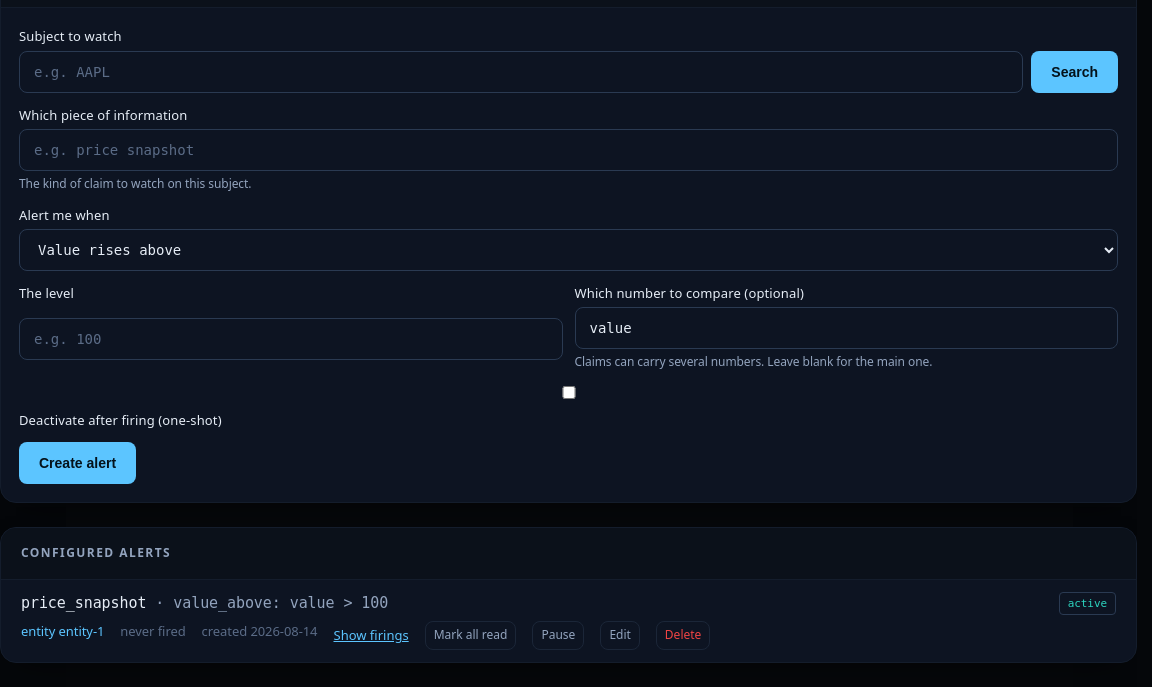
Test: rendered alerts › pauses, edits, and deletes an alert with explicit feedback
(page scrolled)
Click the button "Pause" at (558, 635), box 532,621 -> 584,650
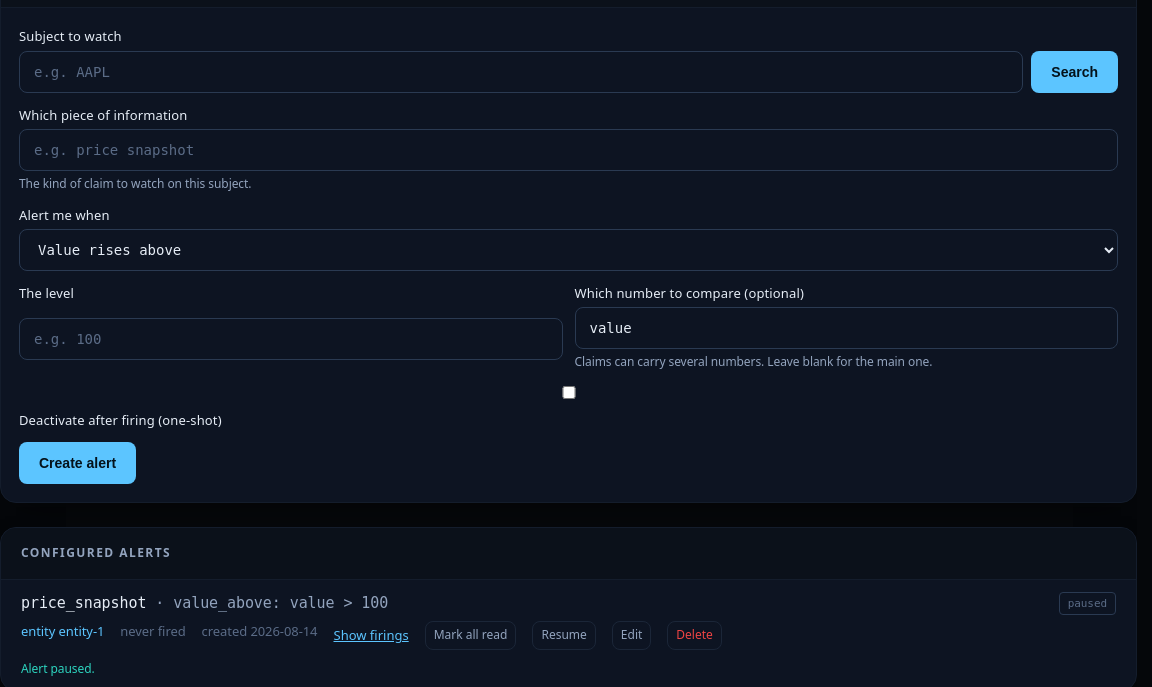
Expected: the text "Alert paused." is shown, 21,660 -> 95,677
Expected: the text "paused" is shown, 1059,592 -> 1116,615
Click the button "Edit" at (632, 635), box 612,621 -> 651,650
(page scrolled)
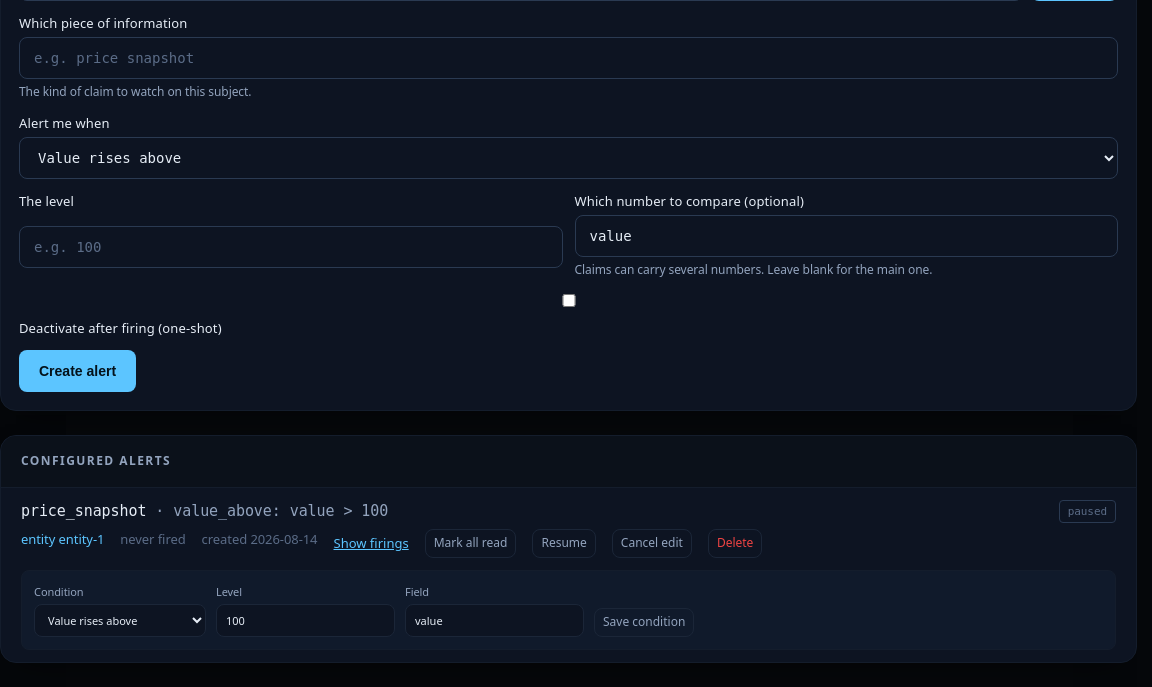
Replace the text in the number field labelled "Level" with "90" at (306, 620), box 216,604 -> 395,637
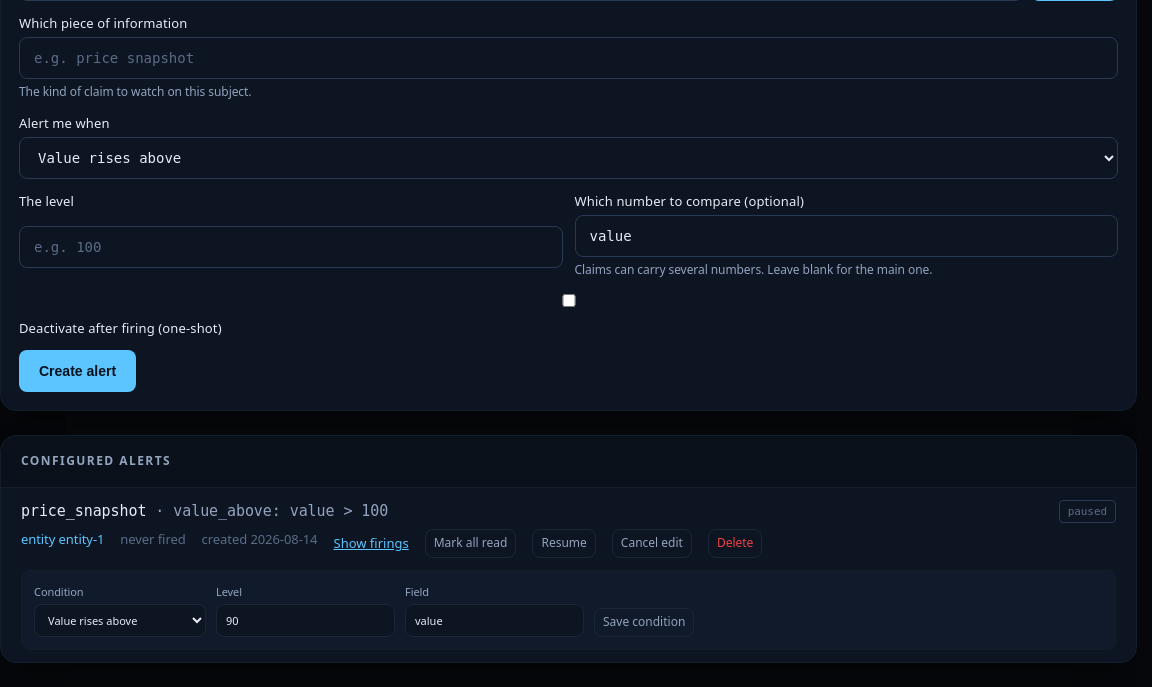
Click the button "Save condition" at (644, 622), box 594,608 -> 694,637
(page scrolled)
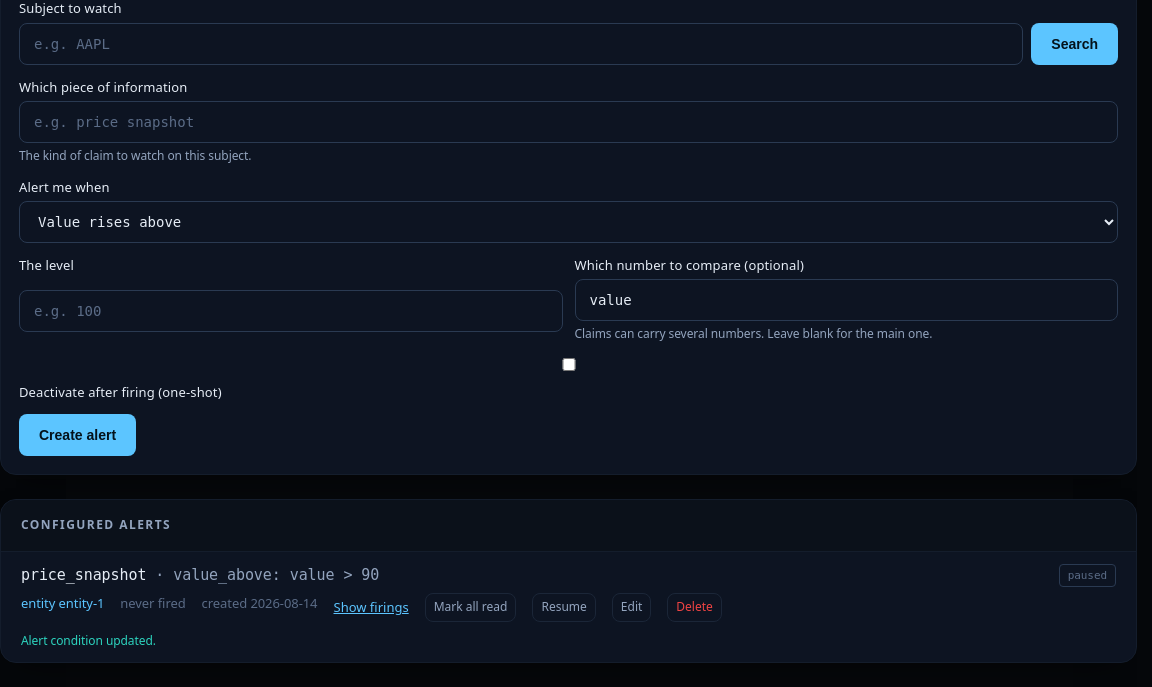
Expected: the text "value > 90" is shown, 173,566 -> 379,584
Expected: the text "Alert condition updated." is shown, 21,632 -> 156,649
Click the button "Delete" at (695, 607), box 667,593 -> 722,622
(page scrolled)
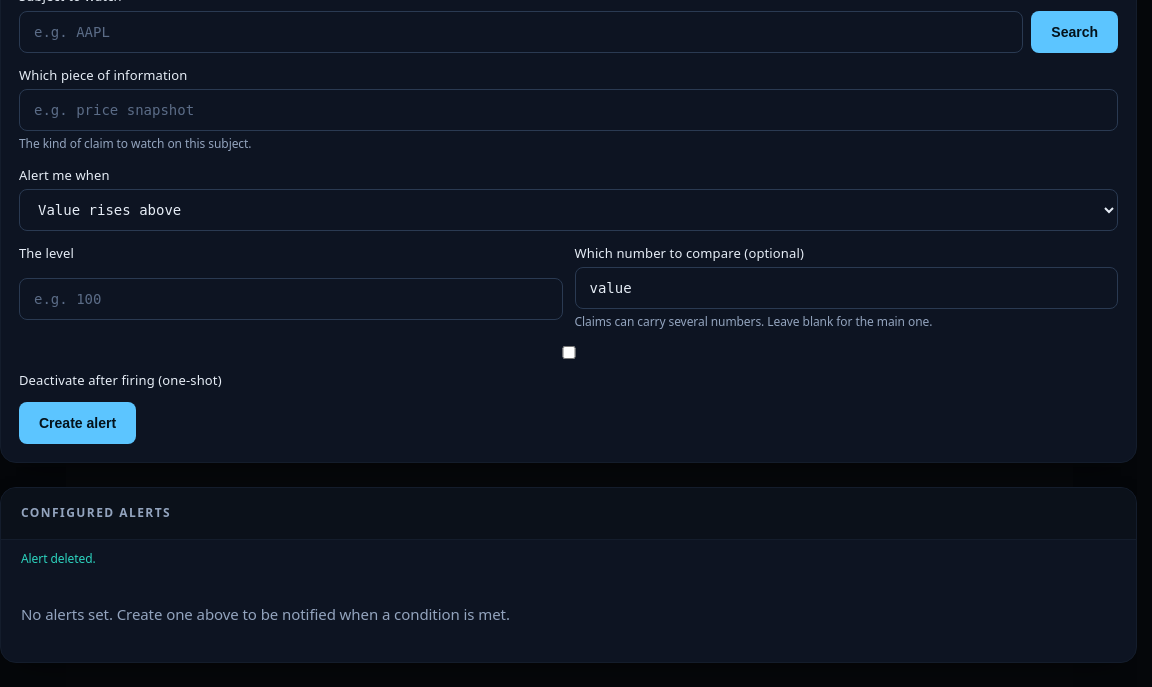
Expected: the text "Alert deleted." is shown, 21,550 -> 96,567
Expected: the text "No alerts set." is shown, 21,604 -> 510,624
